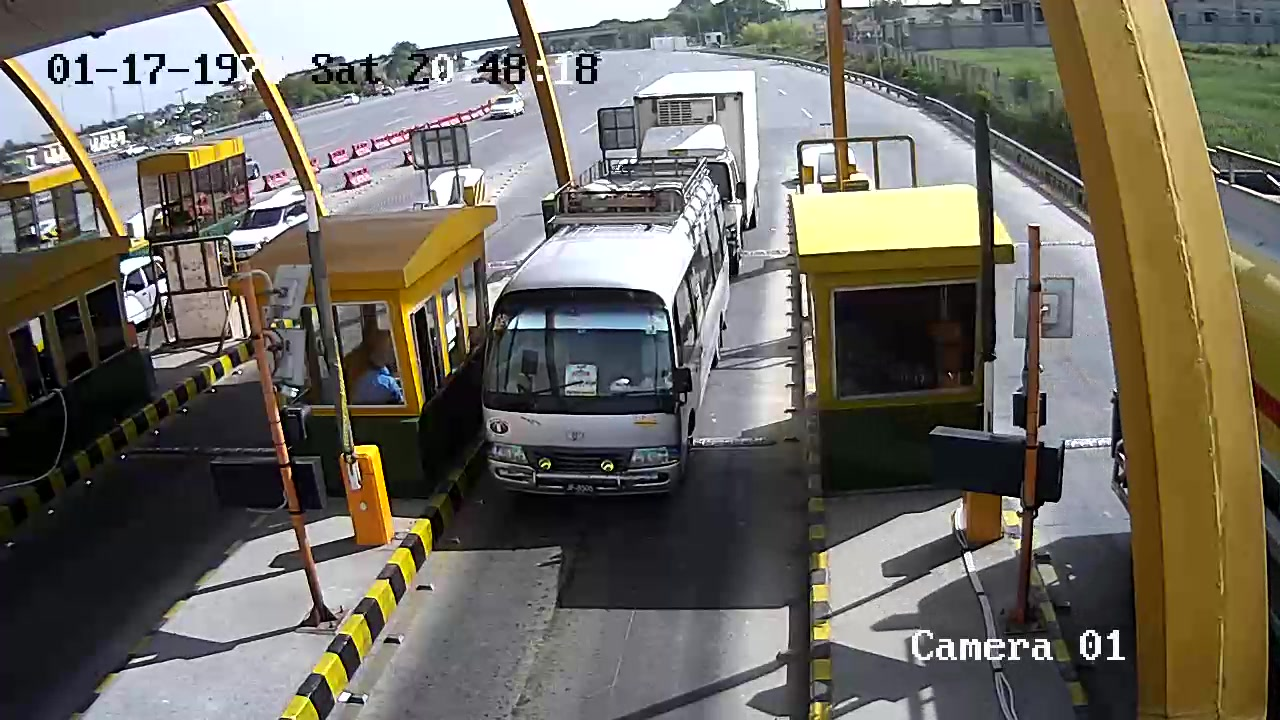F3: (488, 157, 723, 512)
